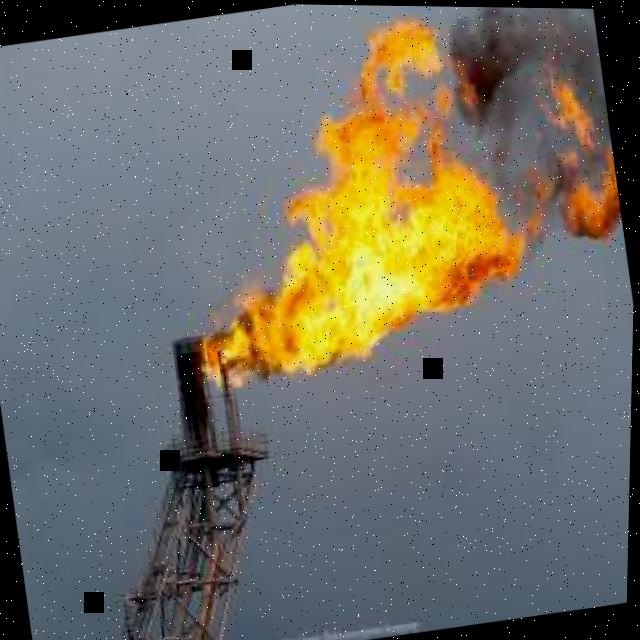fire: (202, 20, 541, 382), (561, 140, 622, 236), (544, 61, 597, 147)
smoke: (449, 6, 612, 268)
